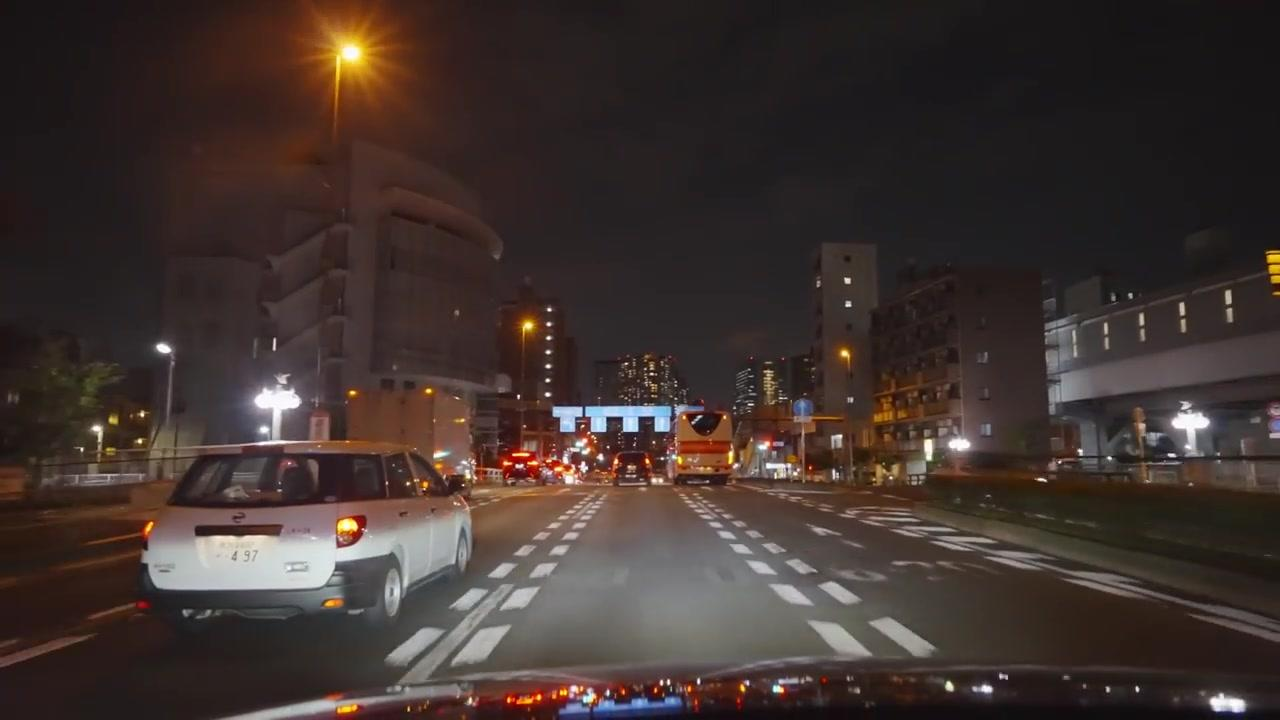bus: (668, 408, 733, 486)
car: (136, 440, 474, 640), (34, 471, 149, 507), (613, 452, 652, 486), (501, 455, 544, 485)
traffic light: (1266, 250, 1280, 297)
